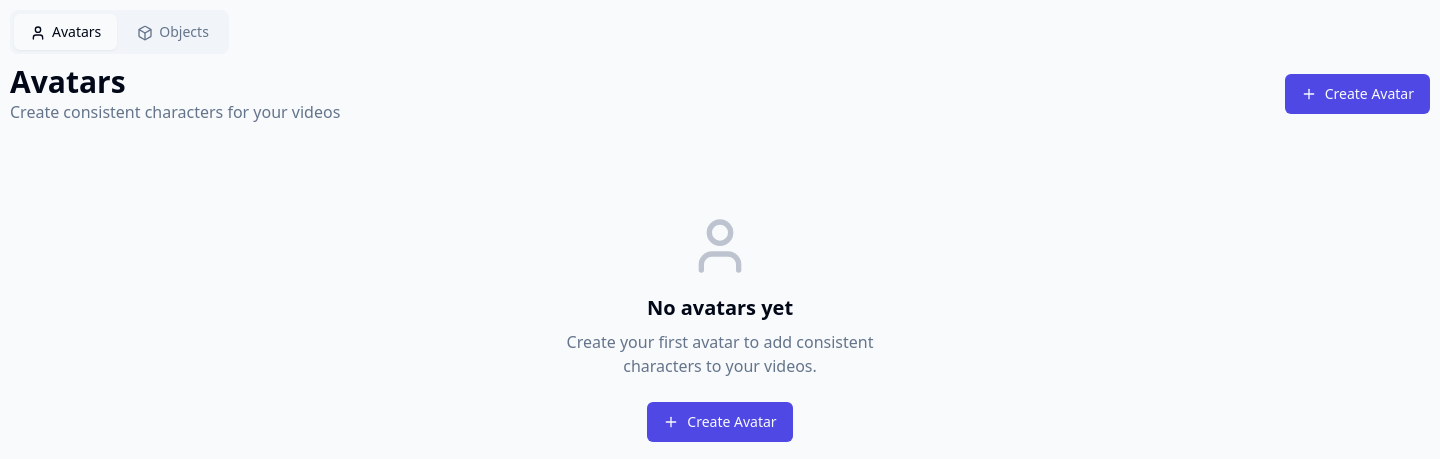
Scenario: Avatars Page › Objects Tab › switches to Objects tab when tab button is clicked
This screenshot has width=1440, height=459.
Expected: the heading "No avatars yet" is shown, [647,294,793,322]
Click the button "Objects". click: (173, 32)
box: [121,14,225,50]
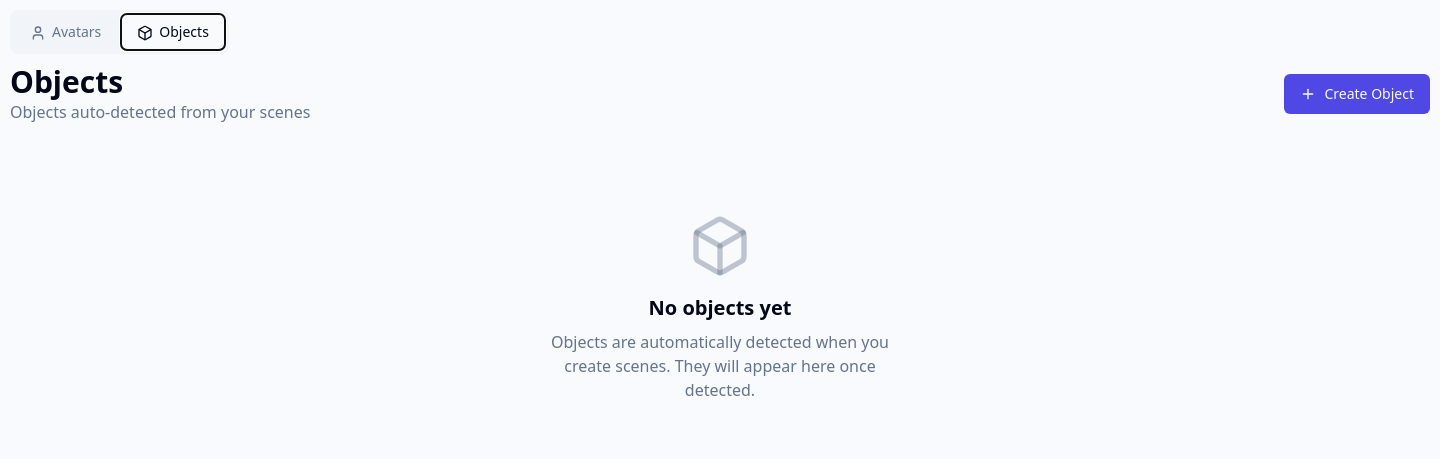
Expected: the heading "No objects yet" is shown, [649,294,791,322]
Expected: the text "Objects auto-detected from your scenes" is shown, [10,100,310,124]
